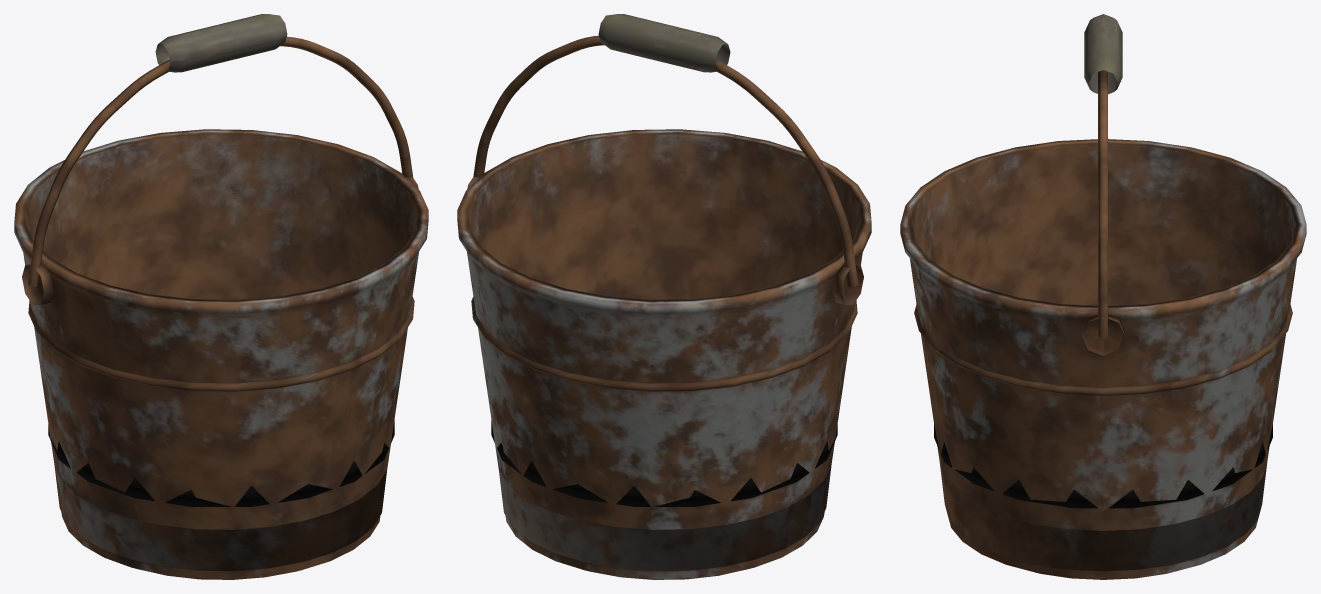
Rendered from bucket.glb.
The picture shows the model from 3 angles, left to right: view 1: azimuth 30°, elevation 25°; view 2: azimuth 150°, elevation 25°; view 3: azimuth 270°, elevation 25°; orthographic projection. The views are drawn at different scales.
Parts seen in each view (by area): view 1: bucket; view 2: bucket; view 3: bucket.
Boxes of the visible parts, x1,y1,x2,y2 form: bucket: (14,14,428,579); bucket: (457,14,871,579); bucket: (900,14,1306,579).
Bounding box in the file's own units: 0.3625 × 0.4417 × 0.338.
1 material, 1 textured.
